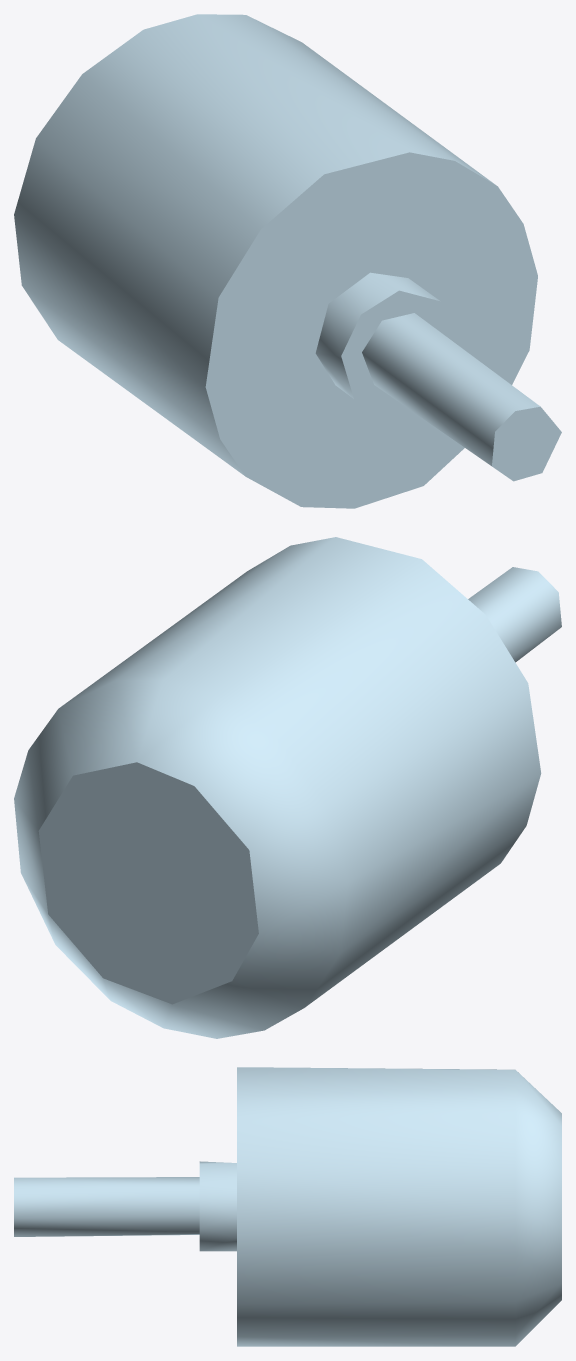
Rendered from eon55.fbx.
3 renders of one model, top to bottom at view 1: azimuth 30°, elevation 25°; view 2: azimuth 150°, elevation 25°; view 3: azimuth 270°, elevation 25°, orthographic. The views are drawn at different scales.
Parts seen in each view (by area): view 1: Part 1; view 2: Part 1; view 3: Part 1.
Boxes of the visible parts, left/top/right/bottom form: Part 1: left=14, top=14, right=561, bottom=508; Part 1: left=14, top=537, right=561, bottom=1038; Part 1: left=14, top=1067, right=561, bottom=1346.
Size of the model in its own units: 3.81 by 3.79 by 7.49.
